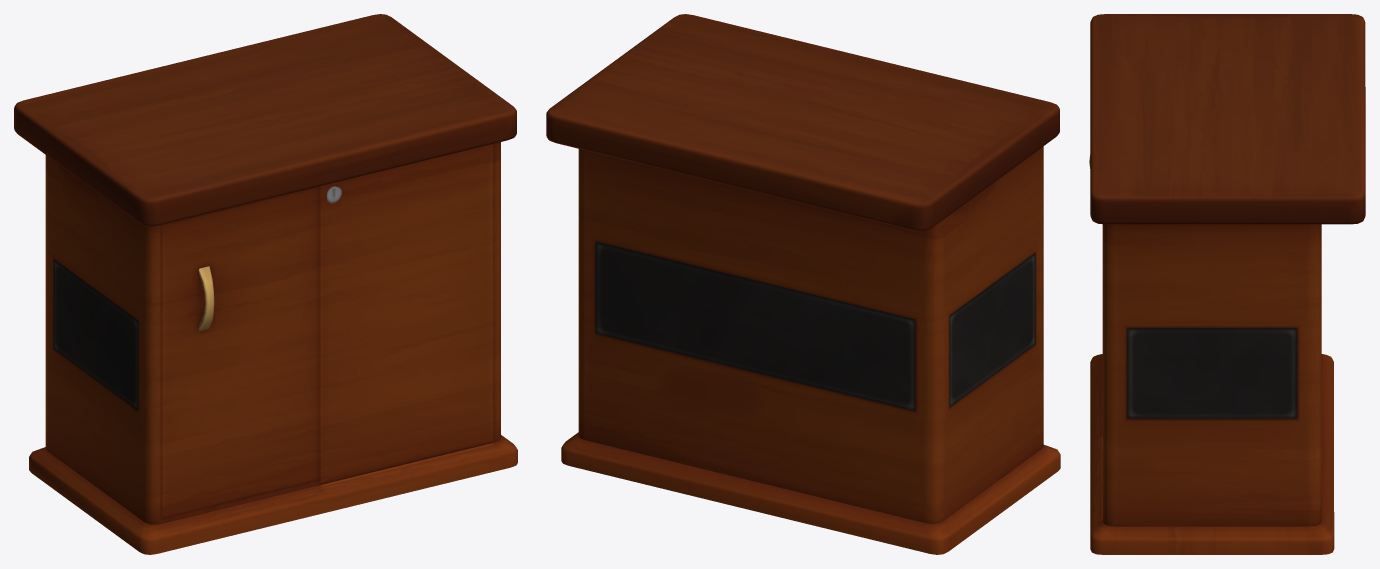
File: OfficeDesk02_2.FBX
The picture shows the model from 3 angles, left to right: view 1: azimuth 30°, elevation 25°; view 2: azimuth 150°, elevation 25°; view 3: azimuth 270°, elevation 25°; orthographic projection. The views are drawn at different scales.
Parts seen in each view (by area): view 1: OfficeDesk02_2; view 2: OfficeDesk02_2; view 3: OfficeDesk02_2.
Part boxes in pixels (x1,y1,x2,y2): OfficeDesk02_2: [14, 14, 517, 554]; OfficeDesk02_2: [546, 14, 1060, 554]; OfficeDesk02_2: [1089, 14, 1365, 554].
Size of what is drawn, in the model's own units: 1 by 0.9 by 0.6307.
